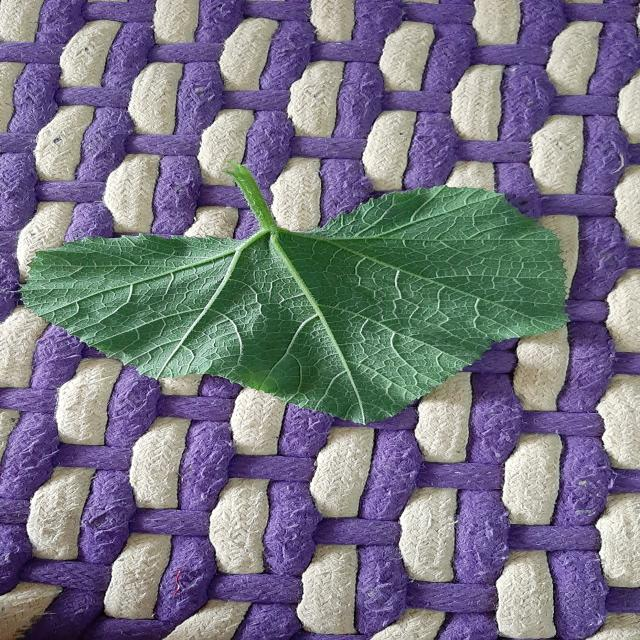pumpkin: (22, 165, 566, 422)
